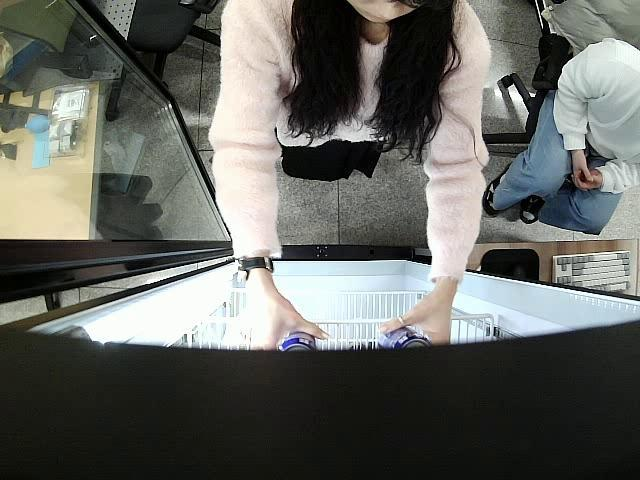14_welchsGrape: (378, 326, 434, 354), (276, 330, 318, 356)
